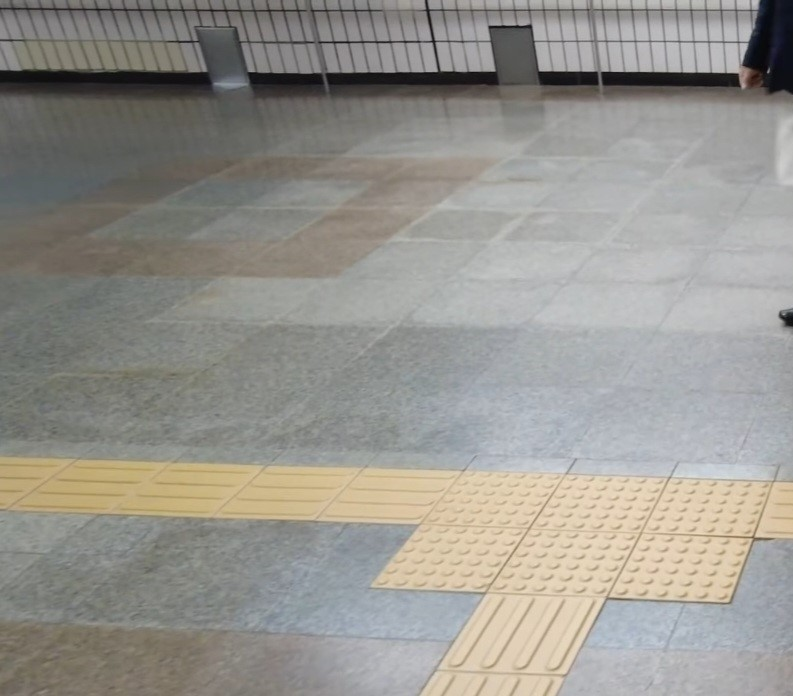guideBlock: (470, 597, 598, 661), (38, 458, 159, 517), (254, 457, 350, 523), (346, 470, 443, 527), (152, 463, 248, 520)
warningBlock: (631, 532, 741, 600), (510, 533, 635, 584), (642, 485, 757, 534), (543, 477, 645, 530), (409, 527, 507, 581), (463, 473, 533, 518)
